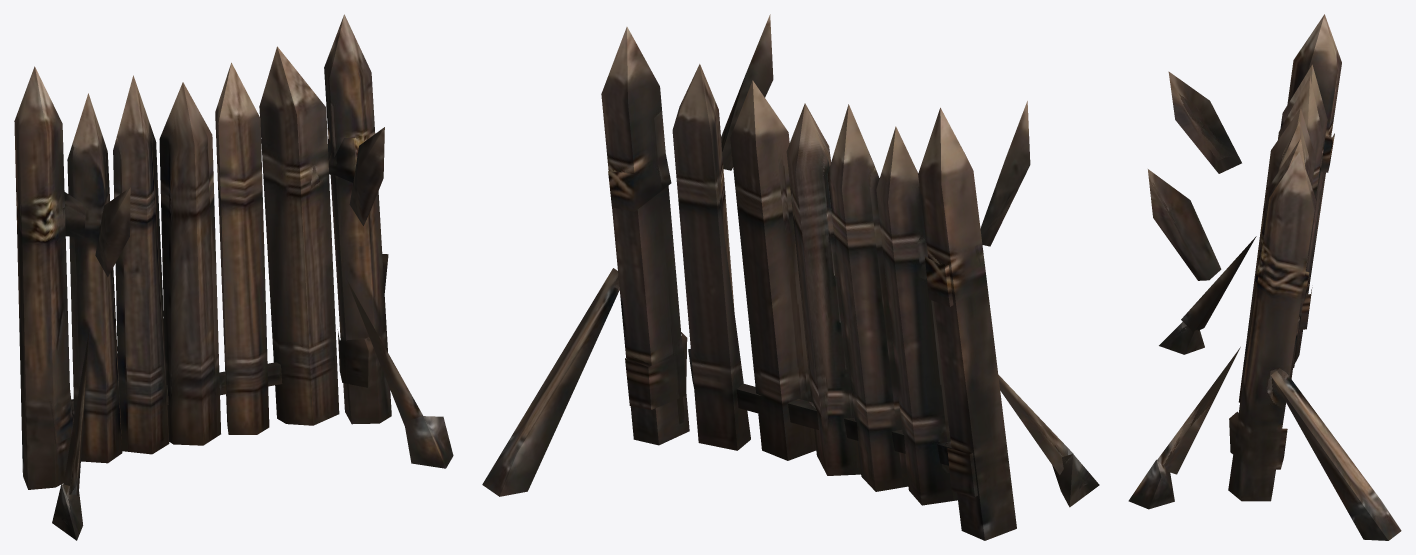
File: legacy_palisade_wall_a.glb
3 renders of one model, left to right at view 1: azimuth 30°, elevation 25°; view 2: azimuth 150°, elevation 25°; view 3: azimuth 270°, elevation 25°, orthographic. The views are drawn at different scales.
Visible parts, largest first — view 1: L_palisade_wall_a; view 2: L_palisade_wall_a; view 3: L_palisade_wall_a.
Boxes of the visible parts, x1,y1,x2,y2 form: L_palisade_wall_a: [14, 14, 453, 540]; L_palisade_wall_a: [482, 14, 1099, 540]; L_palisade_wall_a: [1128, 14, 1401, 540].
Size of the model in its own units: 3.62 by 3.32 by 2.24.
Materials: 1 (1 with a texture image).
